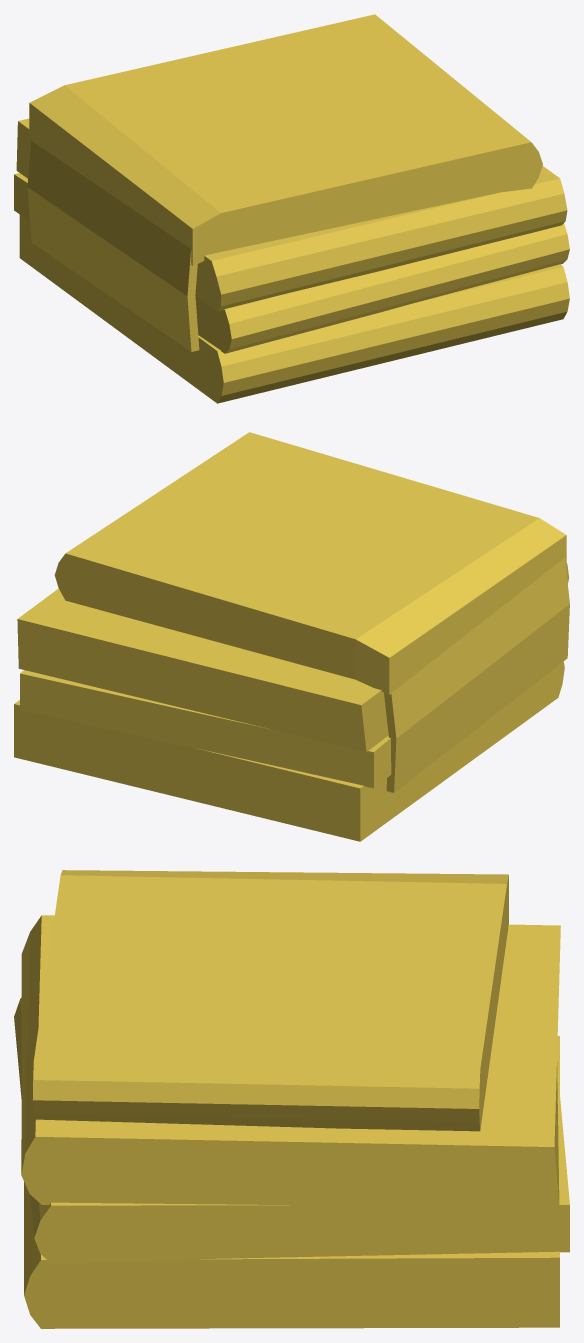
File: towel_pile.glb
3 renders of one model, top to bottom at view 1: azimuth 30°, elevation 25°; view 2: azimuth 150°, elevation 25°; view 3: azimuth 270°, elevation 25°, orthographic. The views are drawn at different scales.
Visible parts, largest first — view 1: Towel Pile; view 2: Towel Pile; view 3: Towel Pile.
Boxes of the visible parts, left/top/right/bottom form: Towel Pile: left=14, top=14, right=569, bottom=403; Towel Pile: left=14, top=432, right=569, bottom=841; Towel Pile: left=14, top=870, right=569, bottom=1328.
Size of the model in its own units: 0.4357 by 0.2105 by 0.4311.
Materials: 1 (1 with a texture image).
